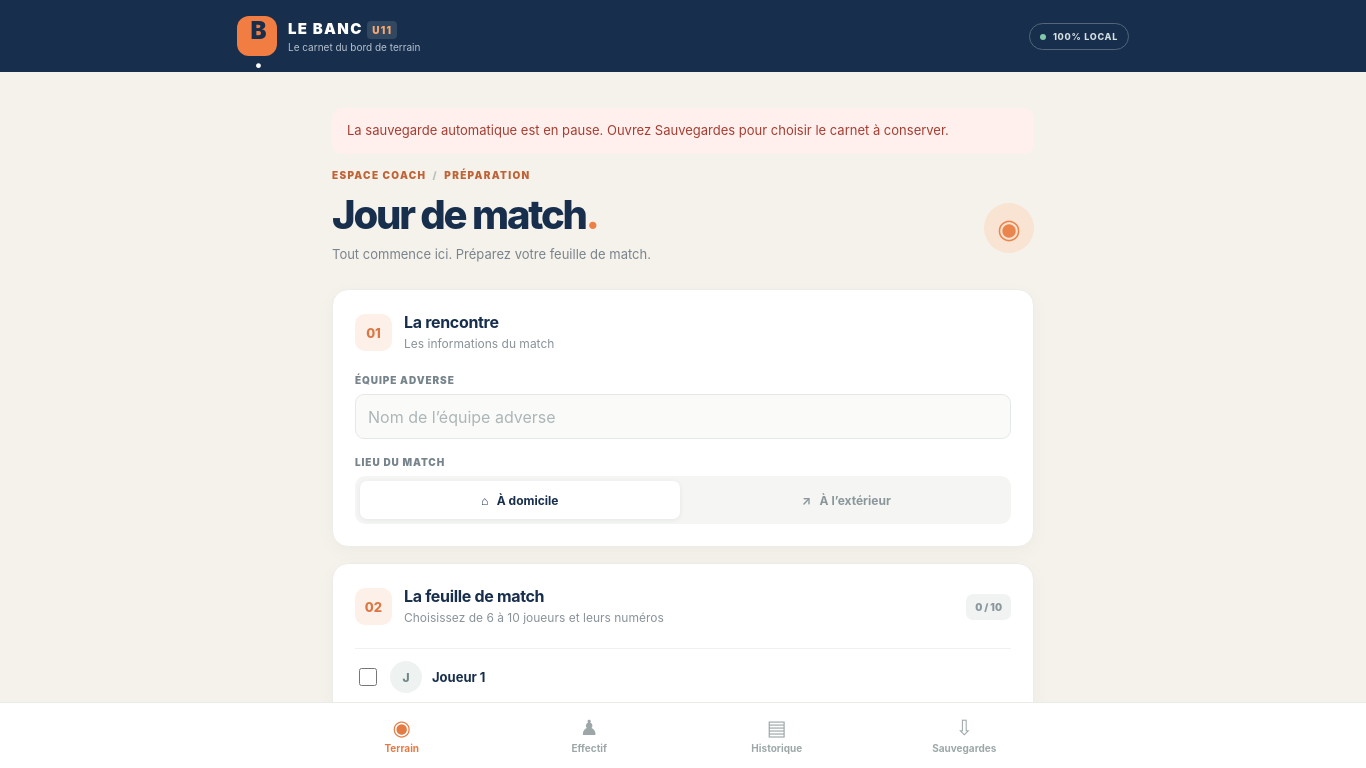
Test: coach workflow › automatic file backup › asks again if the file changes before a conflict is resolved
Expected: the text "sauvegarde automatique est en pause" is shown, [347,122,771,138]
Click the button "⇩ Sauvegardes".
click(964, 736)  # box [870,703,1058,767]
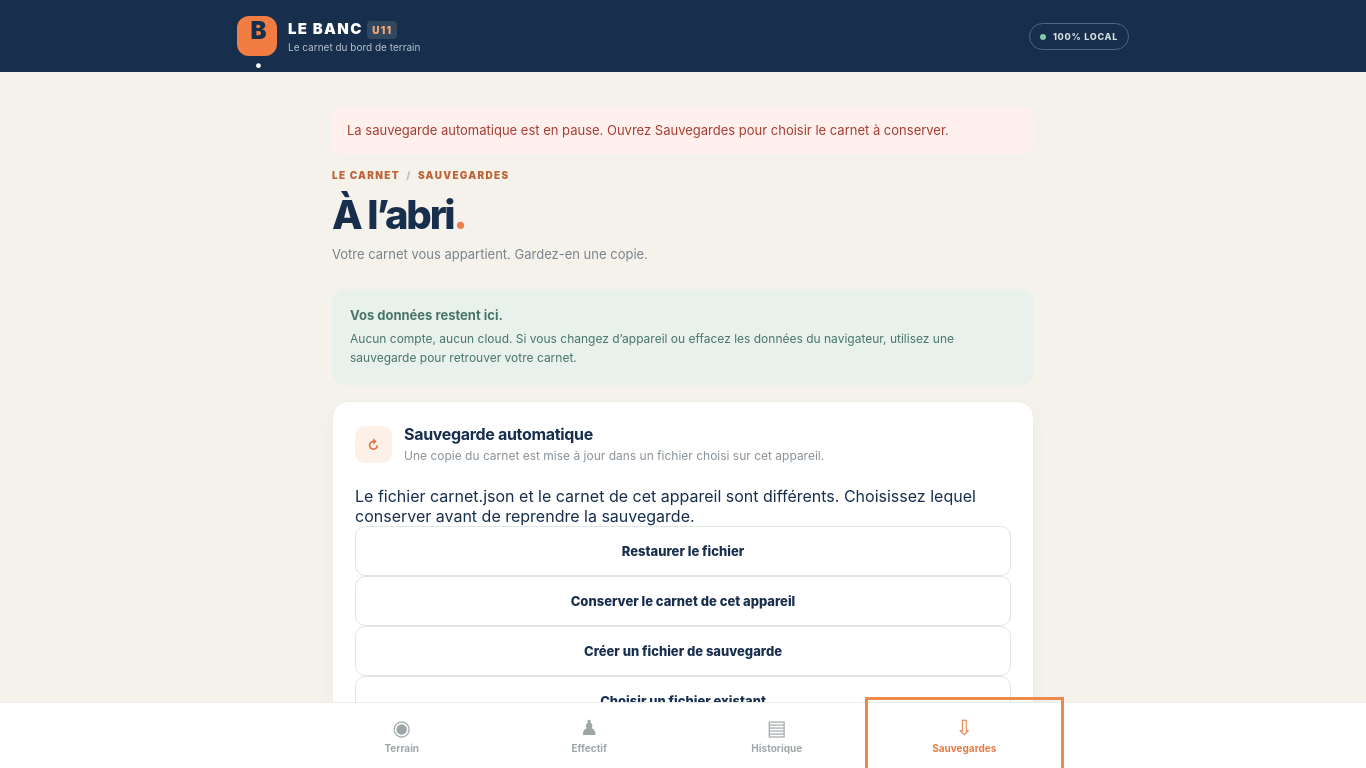
Click the button "Restaurer le fichier".
click(683, 551)  # box [355,526,1011,576]
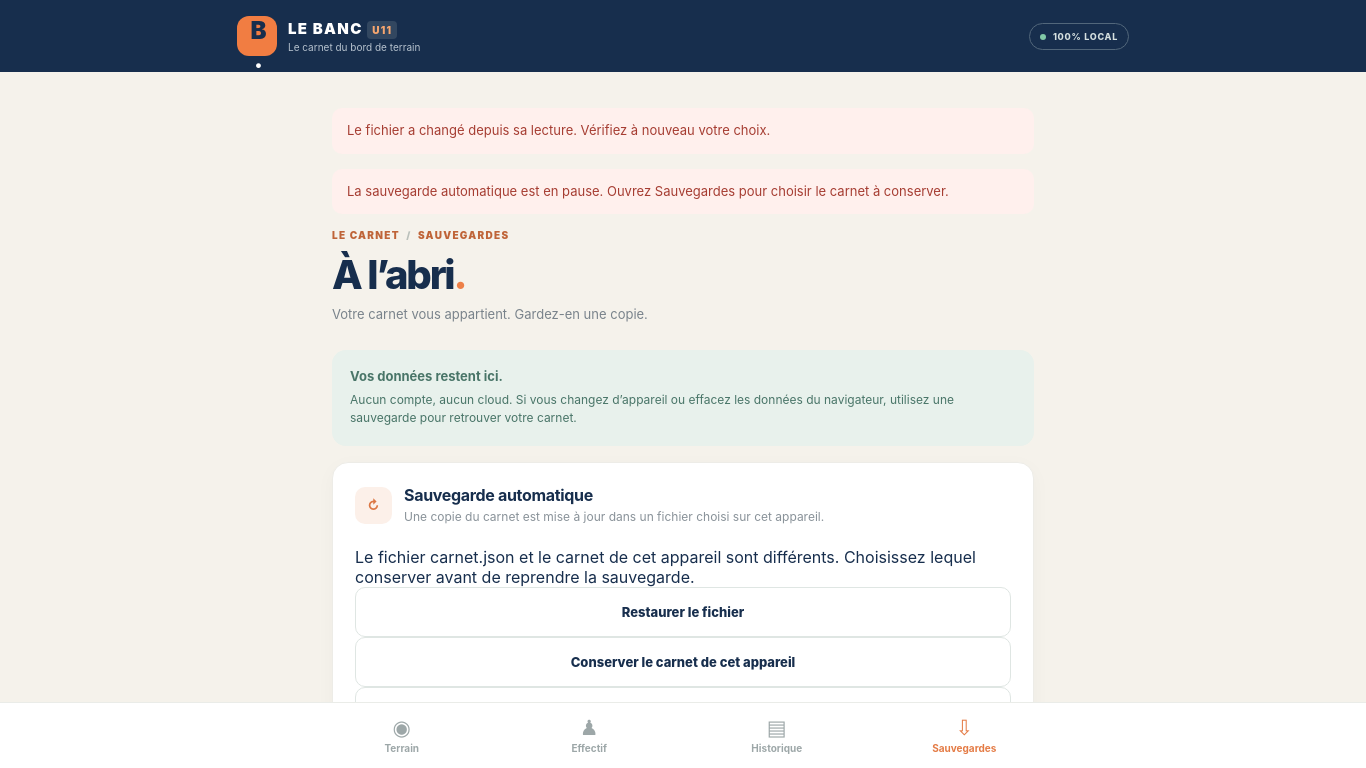
Now the text "Le fichier a changé depuis sa lecture. Vérifiez à nouveau votre choix." is shown, box [332,108,1034,154]
Click the button "Restaurer le fichier".
click(683, 612)  # box [355,587,1011,637]
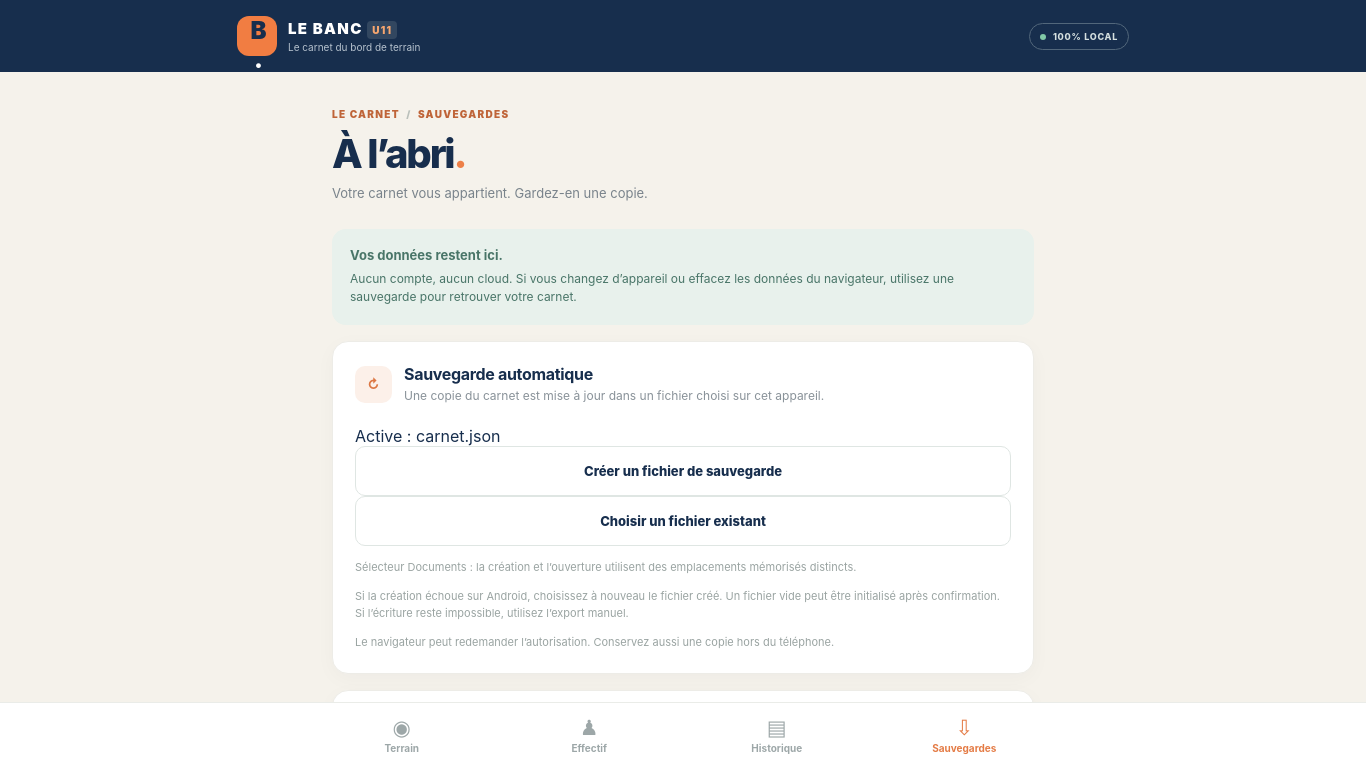
Now the text "Active : carnet.json" is shown, box [355,426,500,446]
